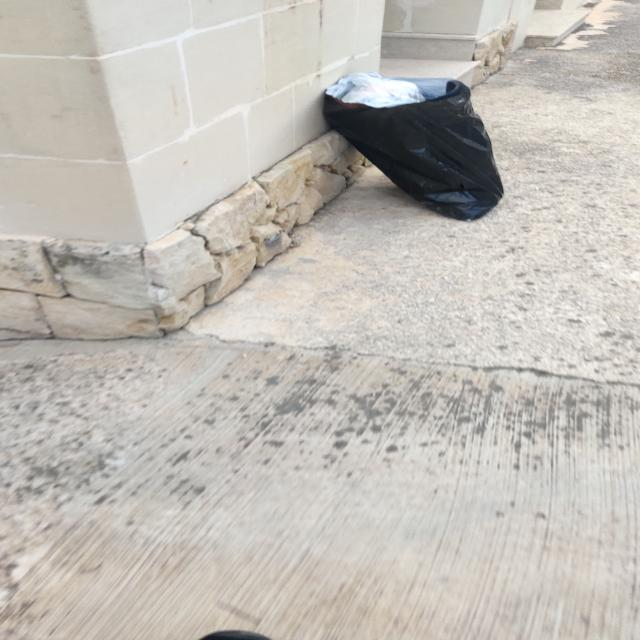Mixed Waste -Black Bags-: (318, 77, 505, 222)
